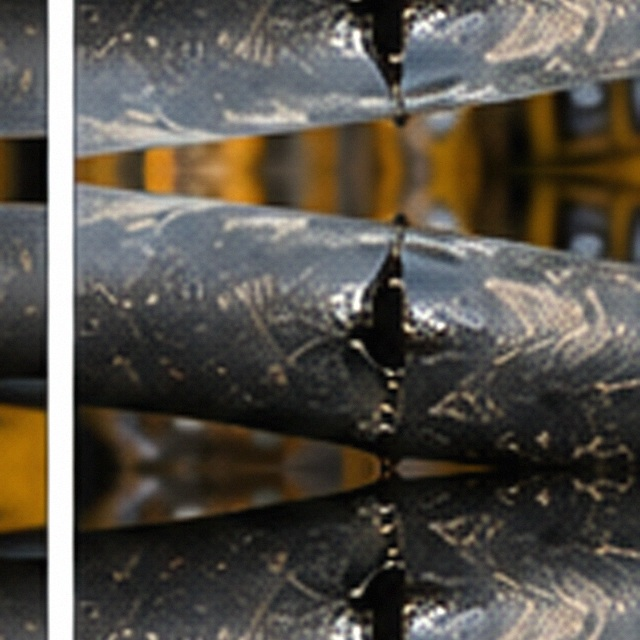hydraulic_oil_leak: (179, 215, 424, 432)
